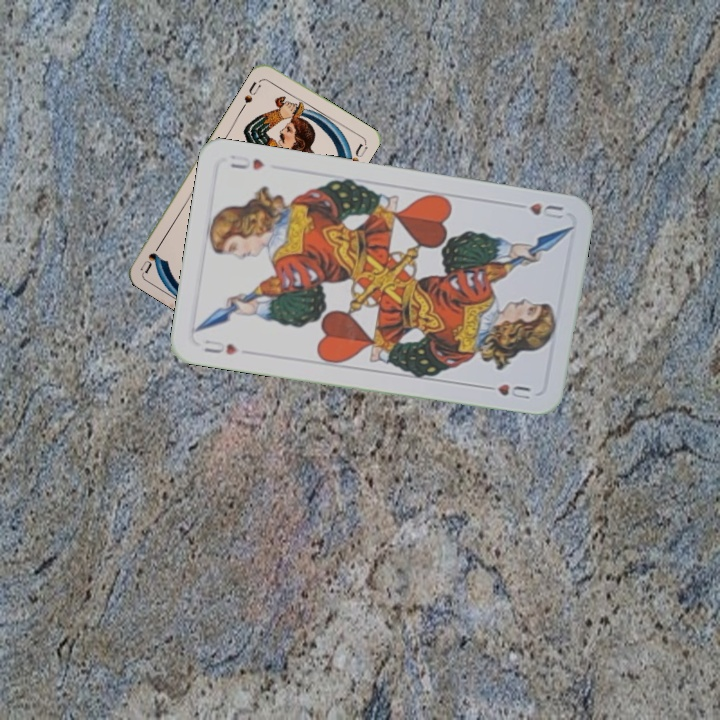HU: (525, 199, 567, 222), (199, 336, 241, 358)
SU: (238, 78, 264, 112)
